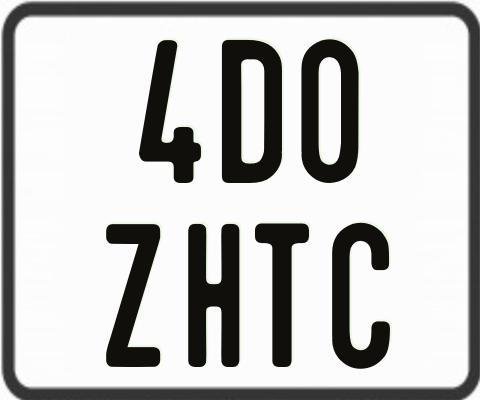0: (301, 36, 361, 183)
4: (136, 40, 203, 186)
C: (332, 221, 392, 370)
D: (219, 39, 280, 184)
H: (186, 224, 238, 372)
T: (252, 222, 307, 369)
Z: (105, 221, 165, 364)
